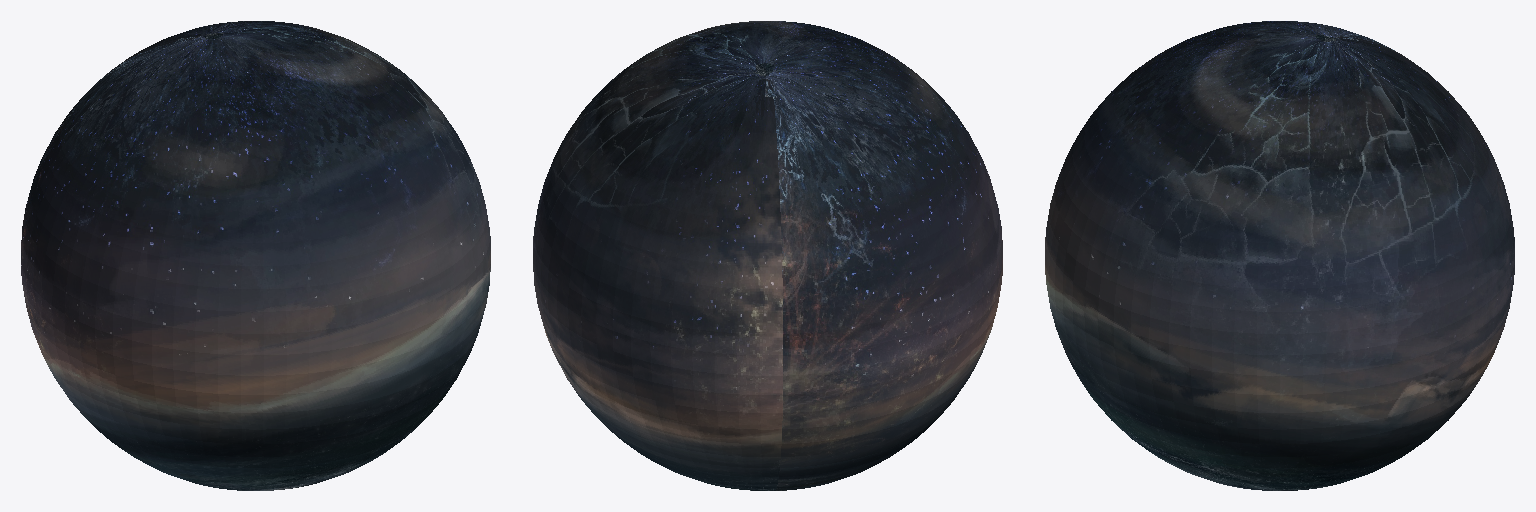
3 views of the same model, side by side, from view 1: azimuth 30°, elevation 25°; view 2: azimuth 150°, elevation 25°; view 3: azimuth 270°, elevation 25° (orthographic).
Parts seen in each view (by area): view 1: Sphere; view 2: Sphere; view 3: Sphere.
Boxes of the visible parts, x1=… form: Sphere: x1=21, y1=21, x2=490, y2=490; Sphere: x1=533, y1=21, x2=1002, y2=490; Sphere: x1=1045, y1=21, x2=1514, y2=490.
Bounding box in the file's own units: 200 × 200 × 200.
Materials: 1 (1 with a texture image).